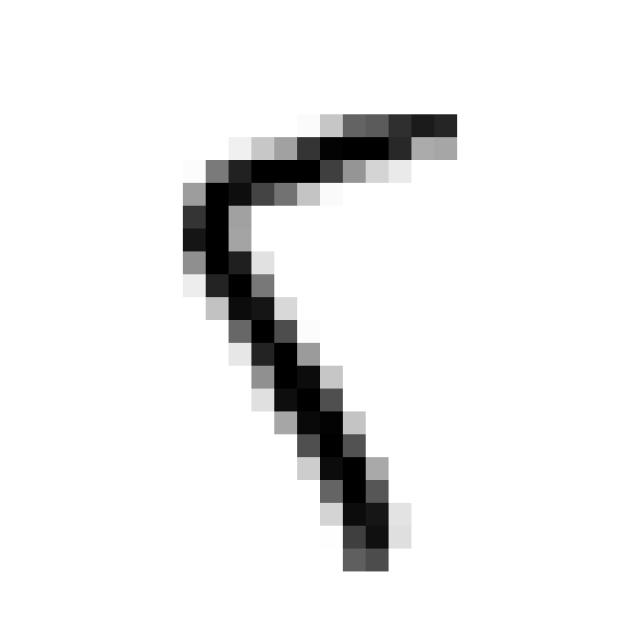2 -two-: (162, 96, 478, 592)
